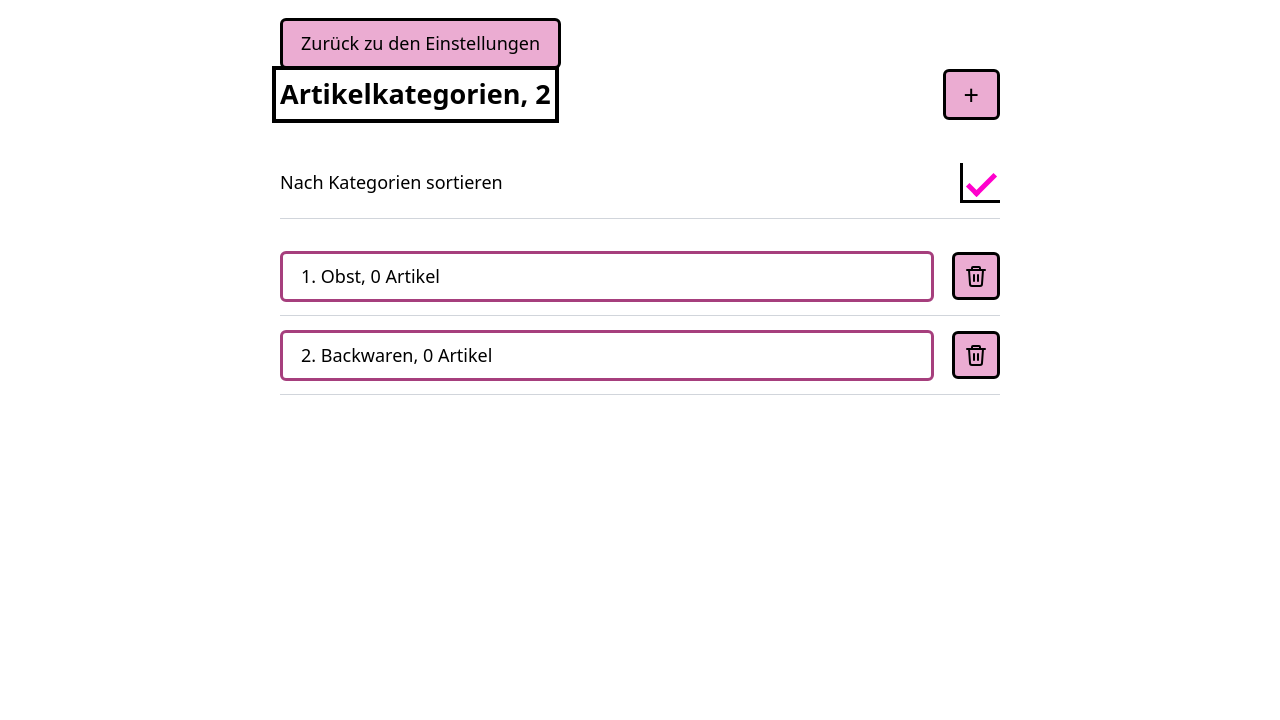
Test case: ItemCategoriesArea › offers an empty form placed at the end
The width and height of the screenshot is (1280, 720).
What coordinates should you click on to do the following:
click the button named "Artikelkategorie anlegen"
I would click on:
 (971, 94)
Its box is left=942, top=69, right=1000, bottom=120.
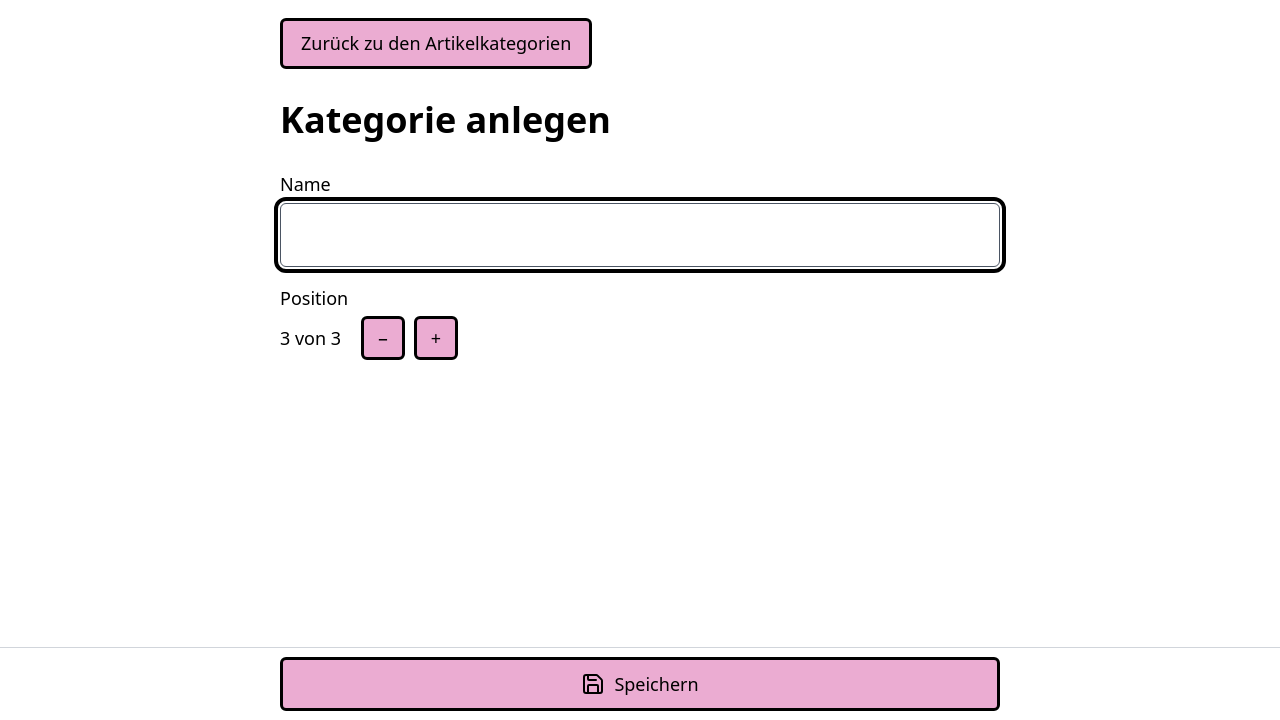
Check: the heading "Kategorie anlegen" is shown, box left=280, top=95, right=611, bottom=144
Check: the field labelled "Name" is empty, box left=280, top=203, right=1000, bottom=267
